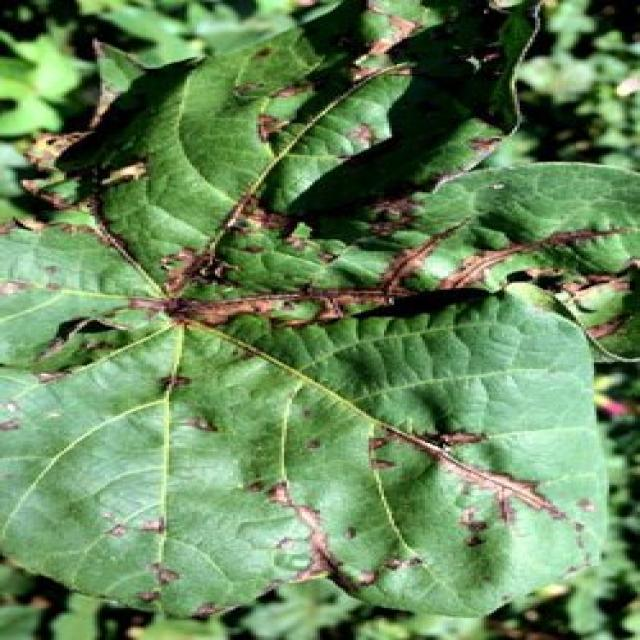Bacterial Blight: (145, 79, 540, 372)
